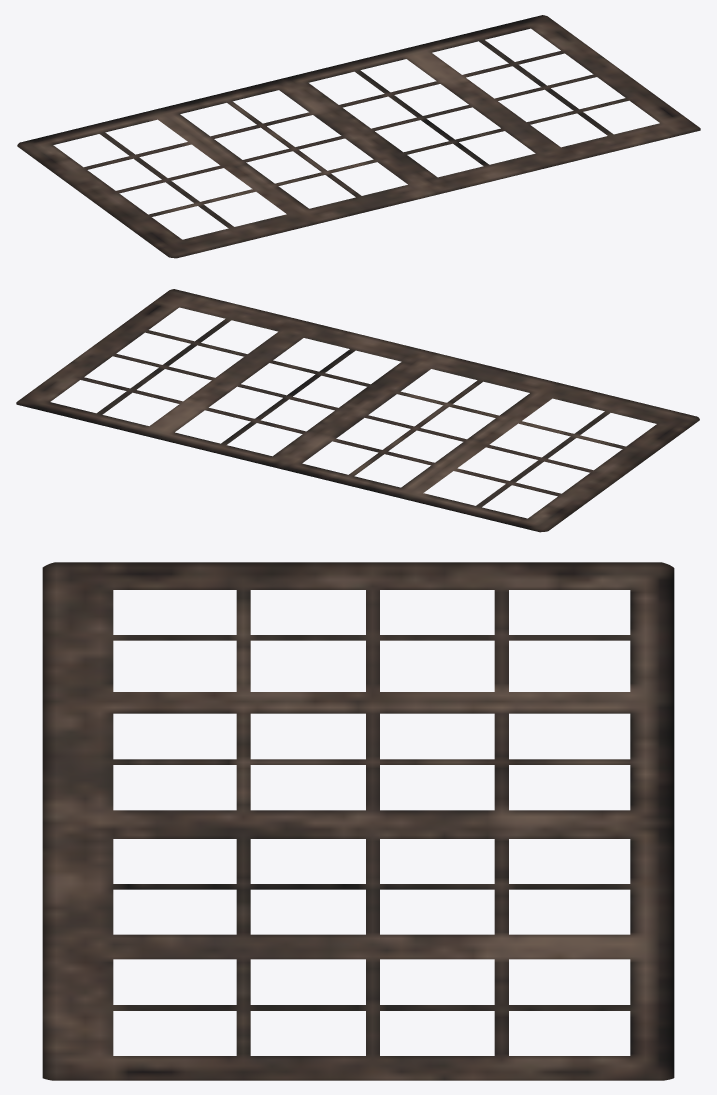
Rendered from SM_EC_House_Windows_1.002.fbx.
3 views of the same model, one above another, from view 1: azimuth 30°, elevation 25°; view 2: azimuth 150°, elevation 25°; view 3: azimuth 270°, elevation 25° (orthographic). The views are drawn at different scales.
Visible parts, largest first — view 1: SM_EC_House_Windows_1.002; view 2: SM_EC_House_Windows_1.002; view 3: SM_EC_House_Windows_1.002.
Part boxes in pixels (left/top/right/bottom): SM_EC_House_Windows_1.002: left=17, top=15, right=700, bottom=258; SM_EC_House_Windows_1.002: left=16, top=289, right=699, bottom=532; SM_EC_House_Windows_1.002: left=42, top=562, right=674, bottom=1080.
Bounding box in the file's own units: 2.67 × 1.37 × 0.
